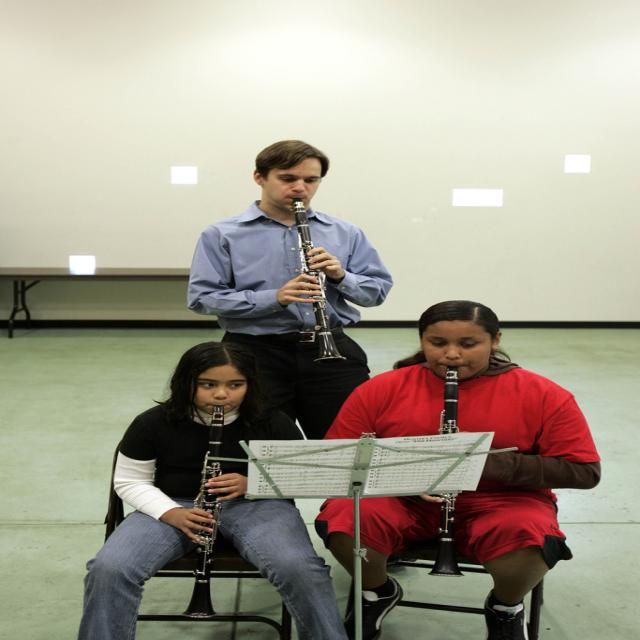clarinet: (180, 400, 236, 623), (290, 198, 358, 368), (430, 364, 471, 584)
